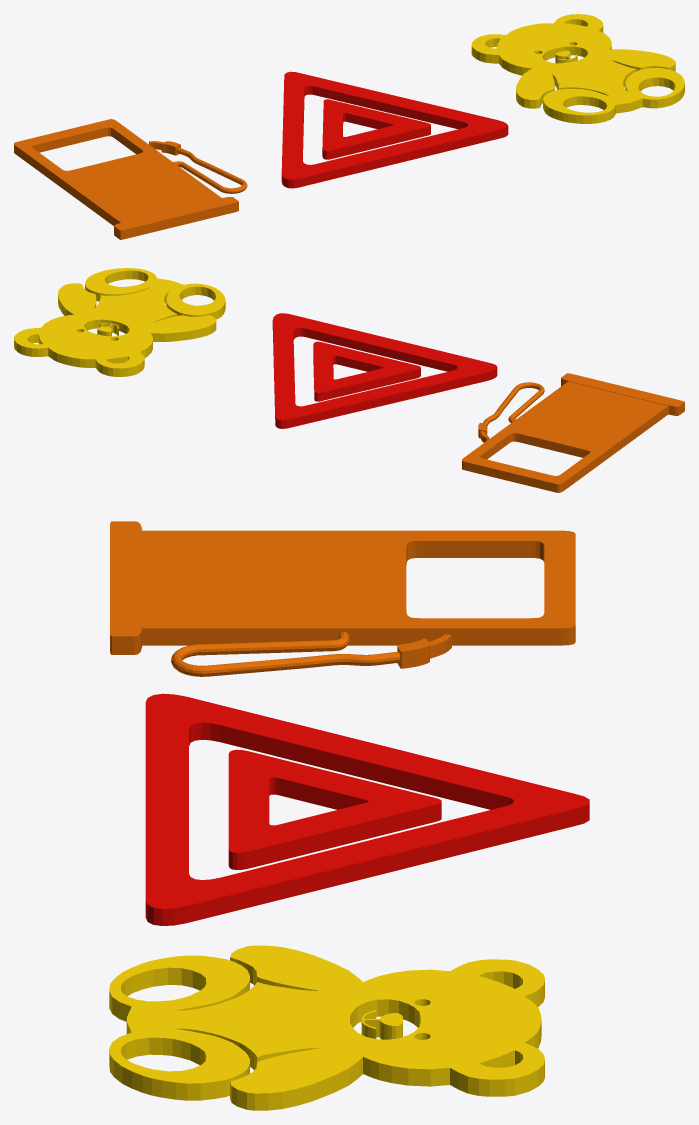
The model's file is icons.glb.
3 renders of one model, top to bottom at view 1: azimuth 30°, elevation 25°; view 2: azimuth 150°, elevation 25°; view 3: azimuth 270°, elevation 25°, orthographic. The views are drawn at different scales.
Visible parts, largest first — view 1: teddy, danger_icon, low_fuel; view 2: teddy, danger_icon, low_fuel; view 3: teddy, danger_icon, low_fuel.
Boxes of the visible parts, x1=… form: teddy: x1=471, y1=14, x2=684, y2=123; danger_icon: x1=281, y1=71, x2=508, y2=188; low_fuel: x1=14, y1=119, x2=247, y2=239; teddy: x1=14, y1=268, x2=225, y2=376; danger_icon: x1=272, y1=313, x2=497, y2=428; low_fuel: x1=462, y1=373, x2=684, y2=492; teddy: x1=109, y1=945, x2=544, y2=1110; danger_icon: x1=145, y1=693, x2=589, y2=925; low_fuel: x1=110, y1=521, x2=575, y2=676.
Bounding box in the file's own units: 1.91 × 0.029 × 0.6773.
